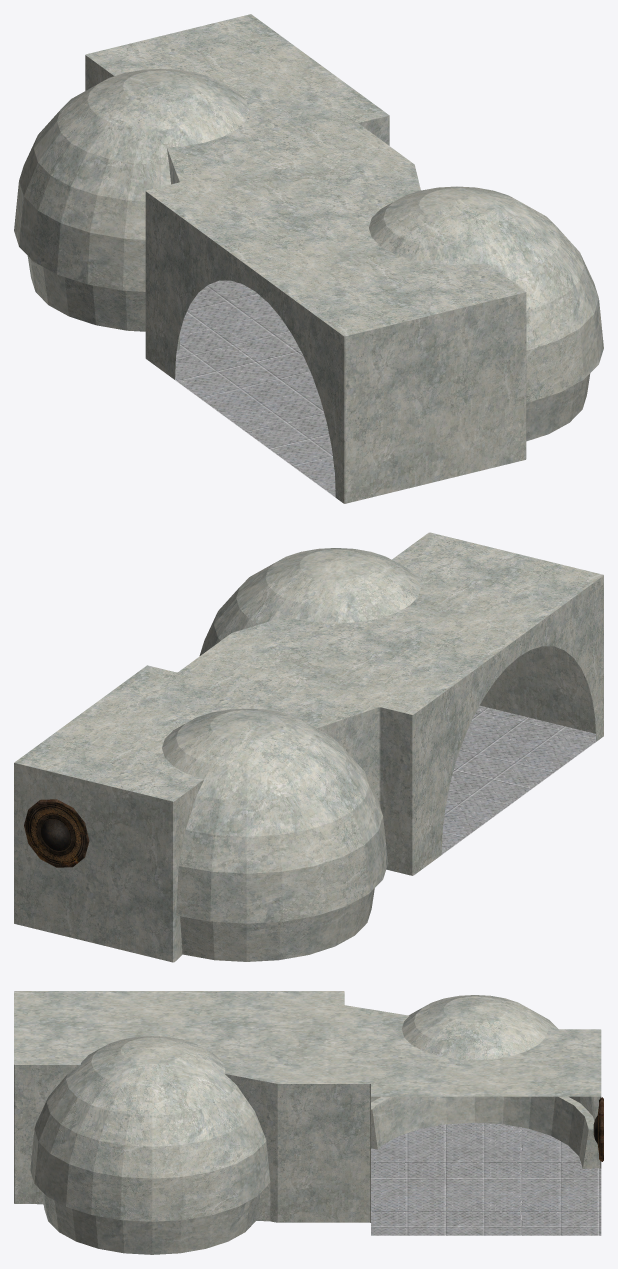
Rendered from thm_corl_cantina_r2_foyer2_mesh_r2.fbx.
3 views of the same model, one above another, from view 1: azimuth 30°, elevation 25°; view 2: azimuth 150°, elevation 25°; view 3: azimuth 270°, elevation 25° (orthographic). The views are drawn at different scales.
Visible parts, largest first — view 1: mesh_node; view 2: mesh_node; view 3: mesh_node.
Part boxes in pixels (box(x1,y1,x2,y2)): mesh_node: box(14, 14, 603, 503); mesh_node: box(14, 532, 603, 962); mesh_node: box(14, 991, 603, 1254).
Size of the model in its own units: 8.9 by 4.67 by 15.39.
